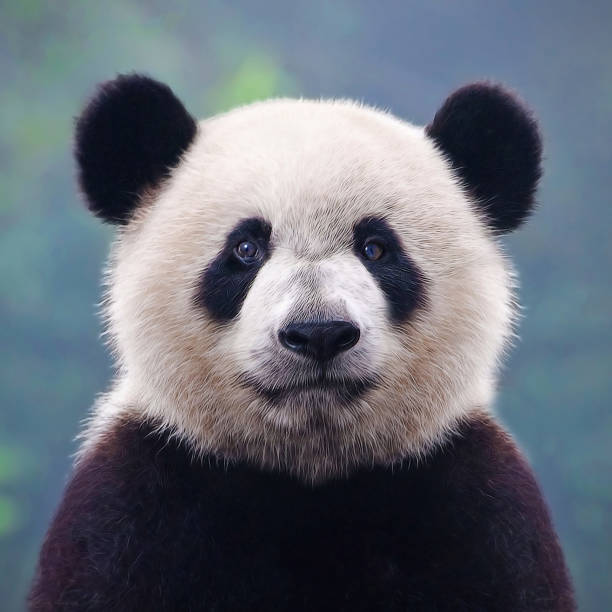panda: (41, 50, 612, 522)
